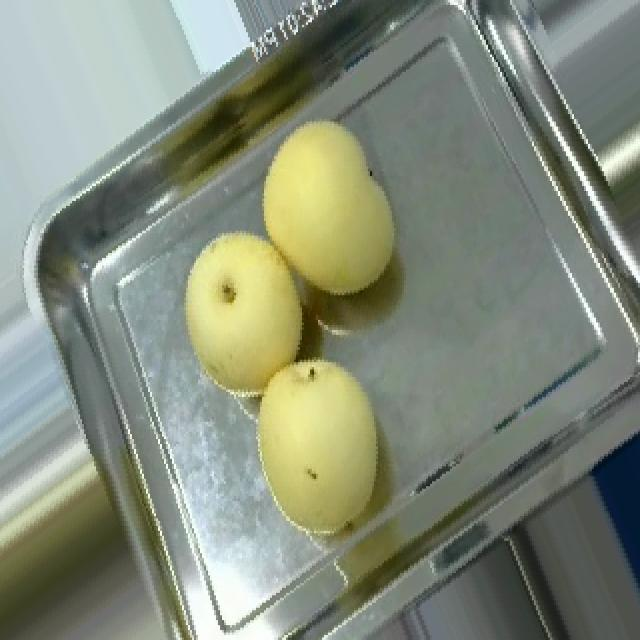Fruit: (0, 389, 172, 640), (226, 335, 414, 561), (240, 101, 418, 318), (164, 208, 328, 417)
